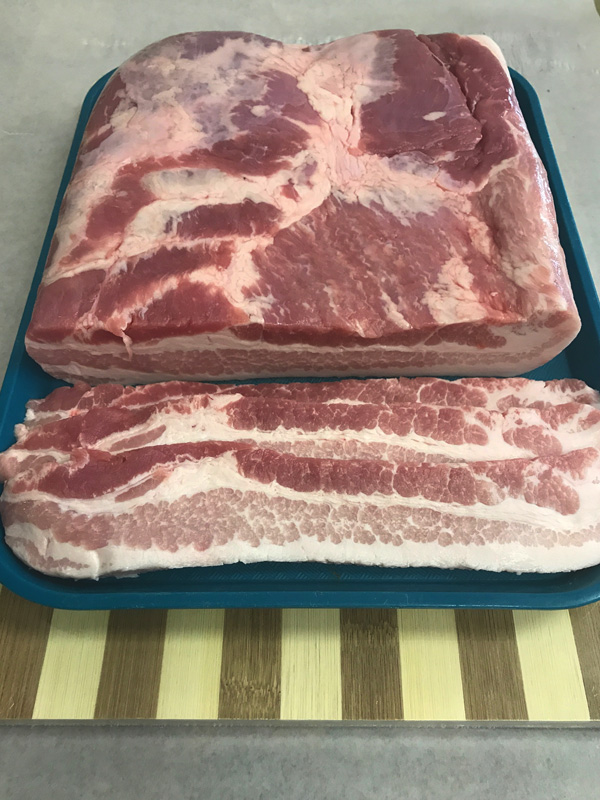bacon: (50, 33, 553, 359), (5, 379, 600, 583)
